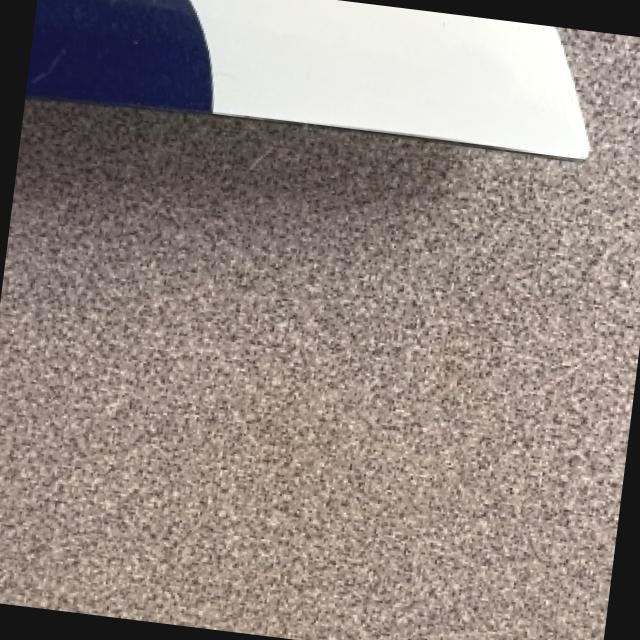healthy: (28, 0, 589, 157)
